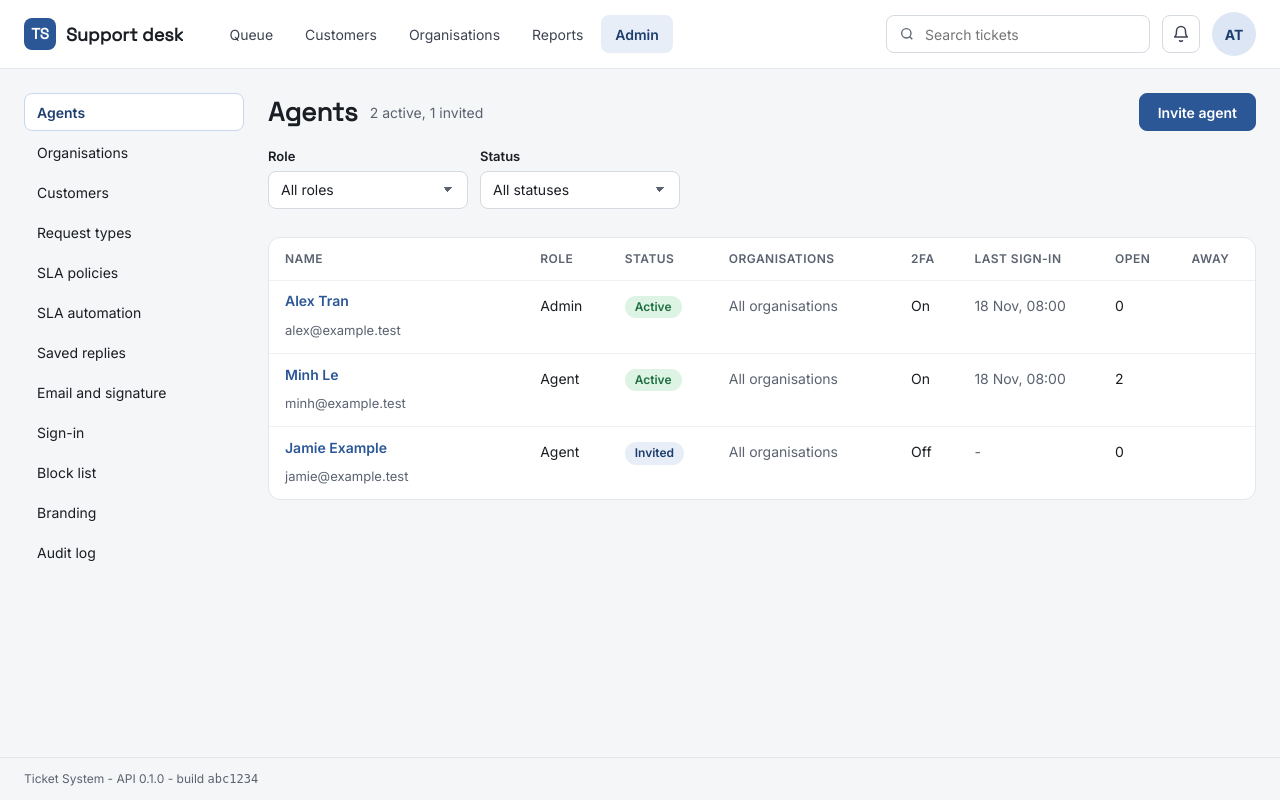
Test: Admin - Manage supporters › shows the four side panel tabs and the activity as plain text
The image size is (1280, 800).
Click the button "Minh Le".
click(312, 375)  # box top-left (285, 356), bottom-right (338, 394)
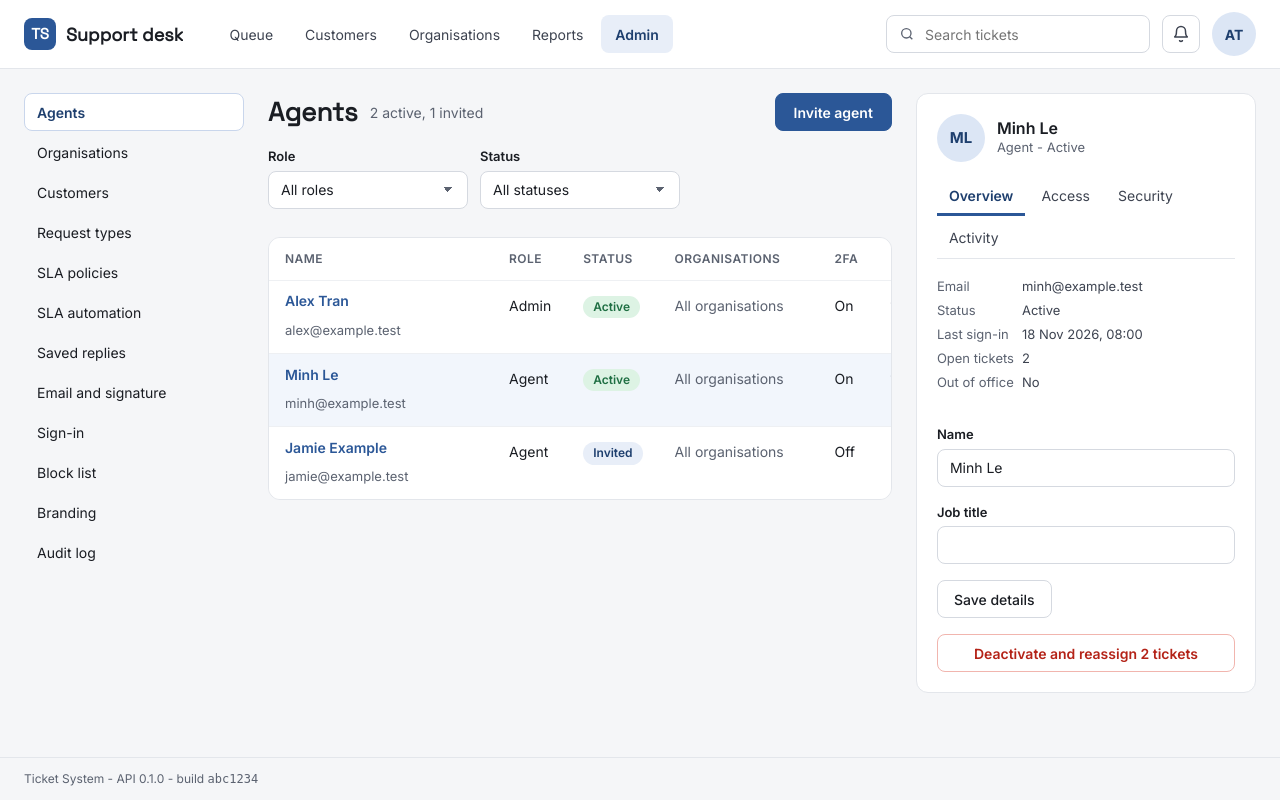
Expected: the tabs read "Overview", "Access", "Security", "Activity", in this order
Click the tab "Activity".
click(974, 239)  # box top-left (937, 220), bottom-right (1010, 258)
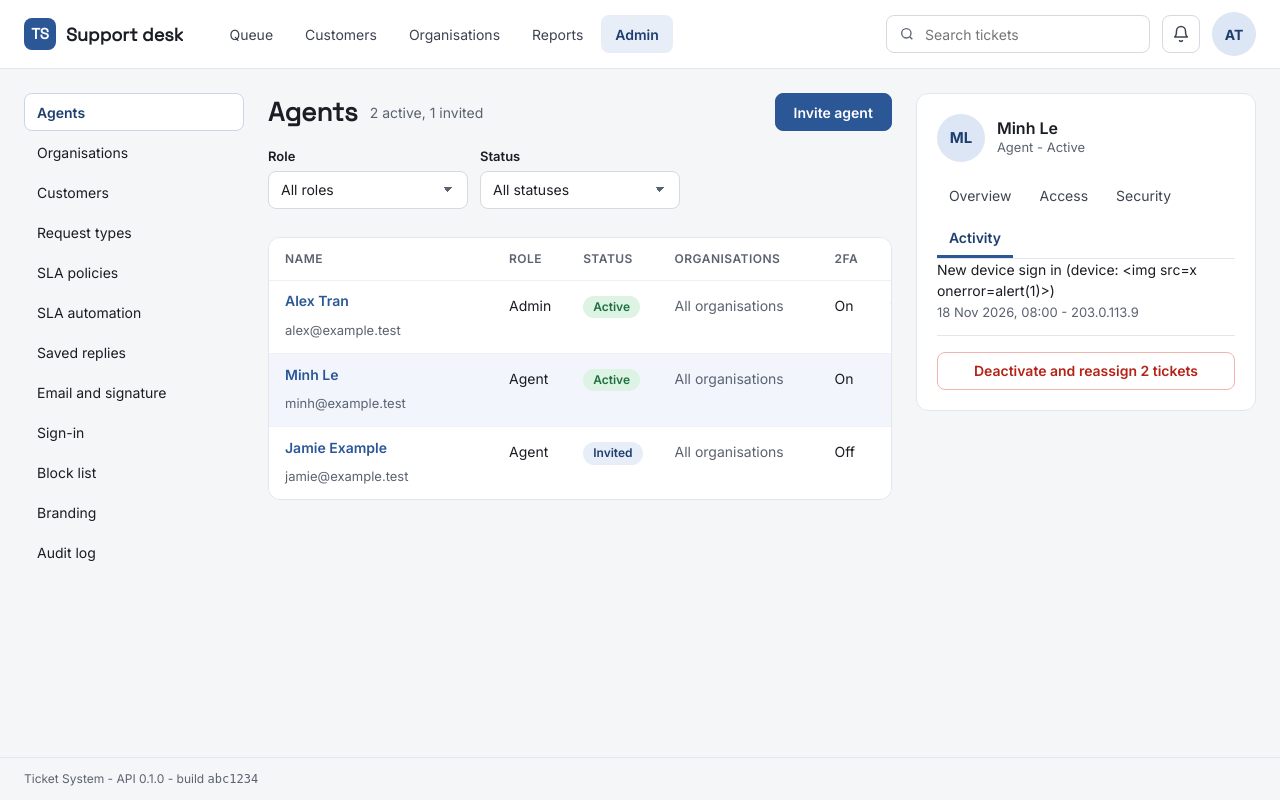
Expected: the list named "Activity" shows "New device sign in (device: <img src=x onerror=alert(1)>)", top-left (937, 261), bottom-right (1197, 299)
